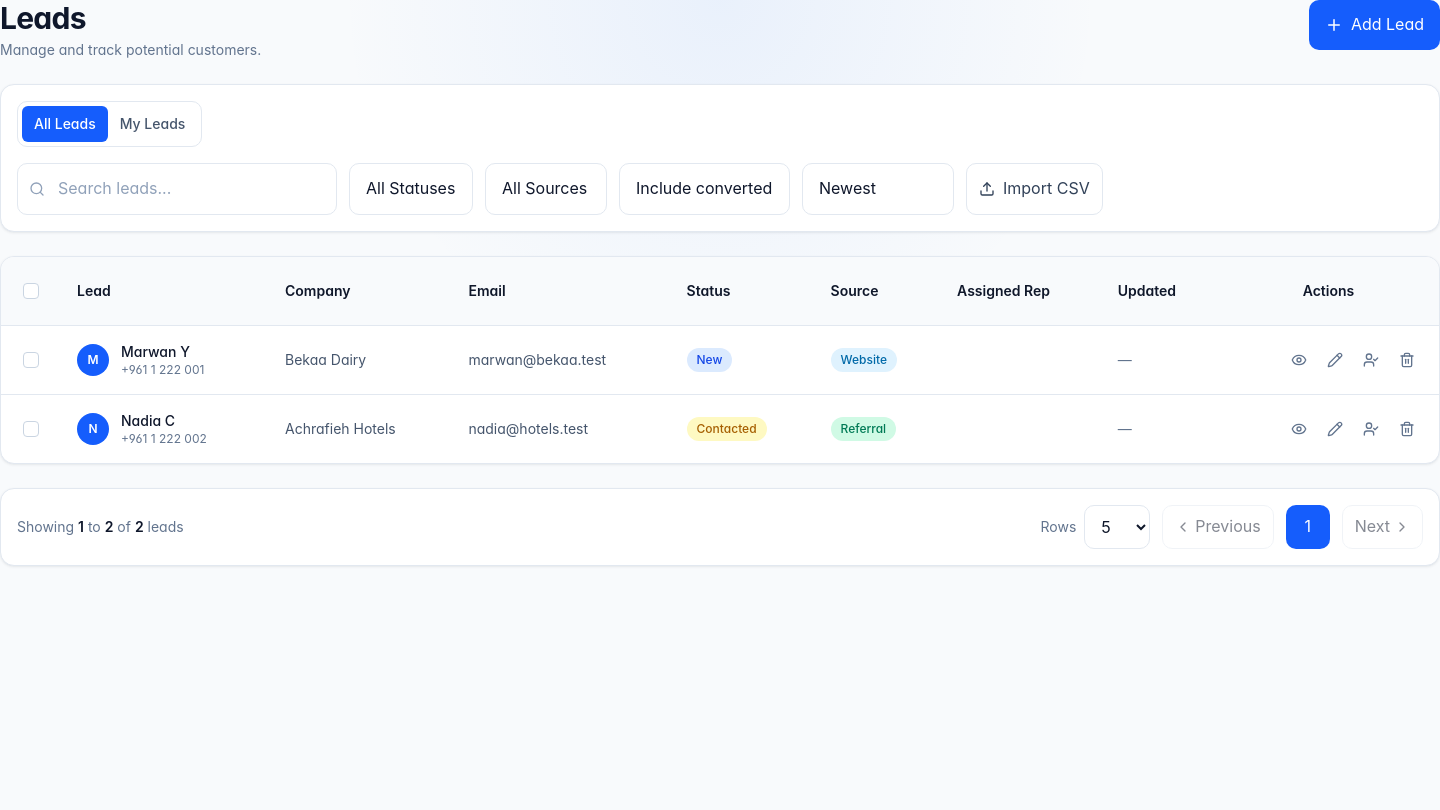
Test case: Lead — conversion › shows the server's reason, not a raw detail value
Click the button named "Convert Nadia C to a customer".
click(1371, 429)  # box [1355, 413, 1387, 445]
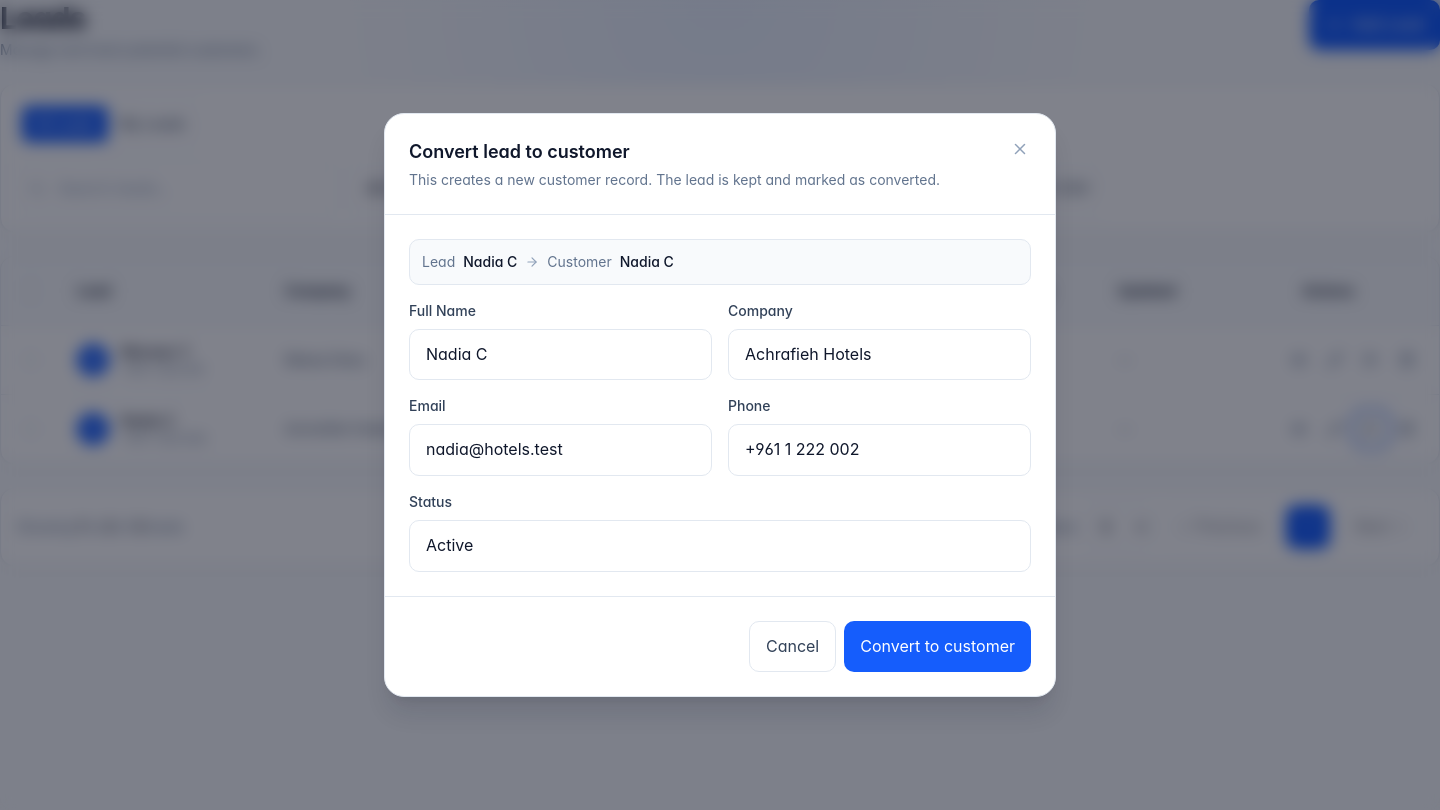
Click the button "Convert to customer".
click(938, 646)  # box [844, 621, 1031, 672]
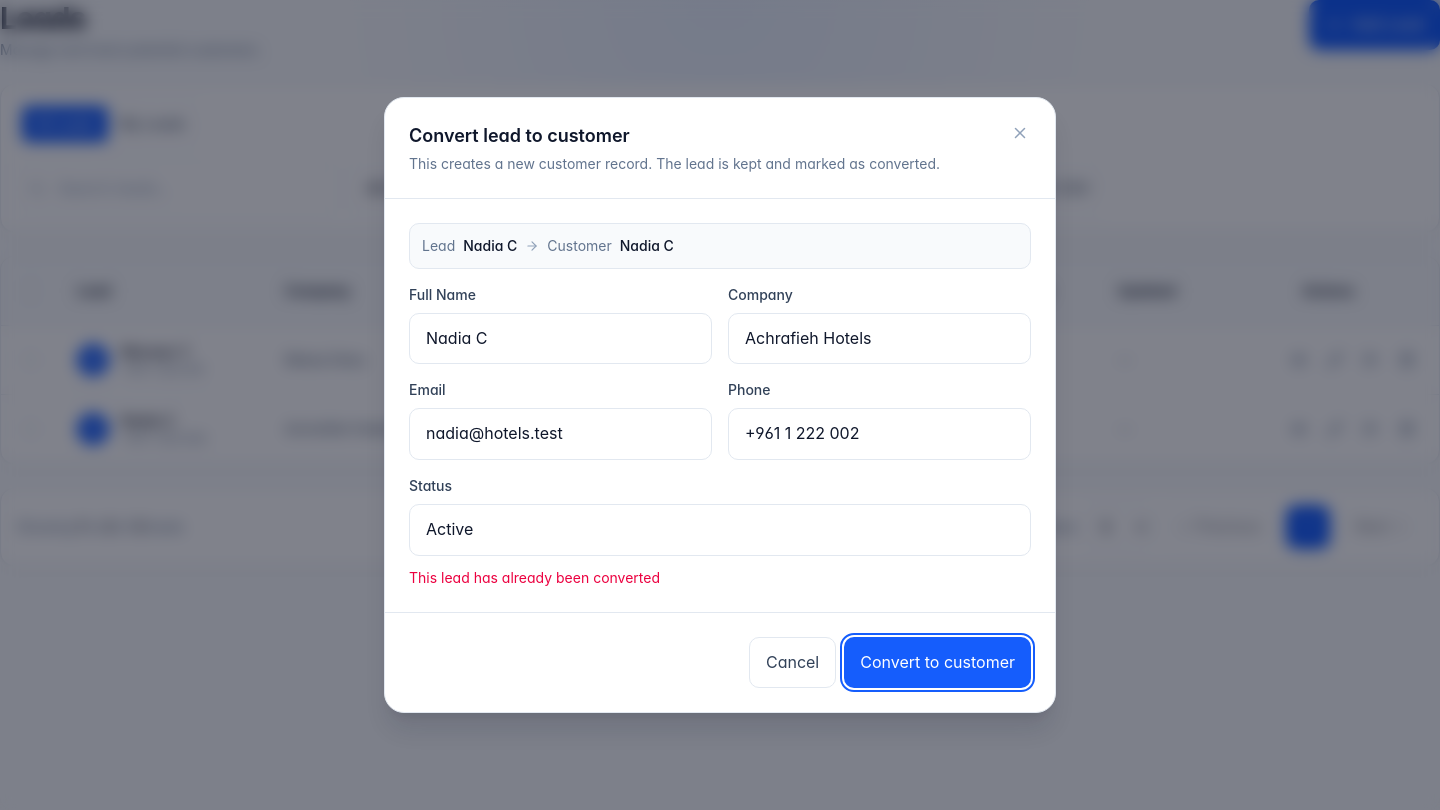
Result: the text "This lead has already been converted" is shown at [409, 569, 660, 586]
